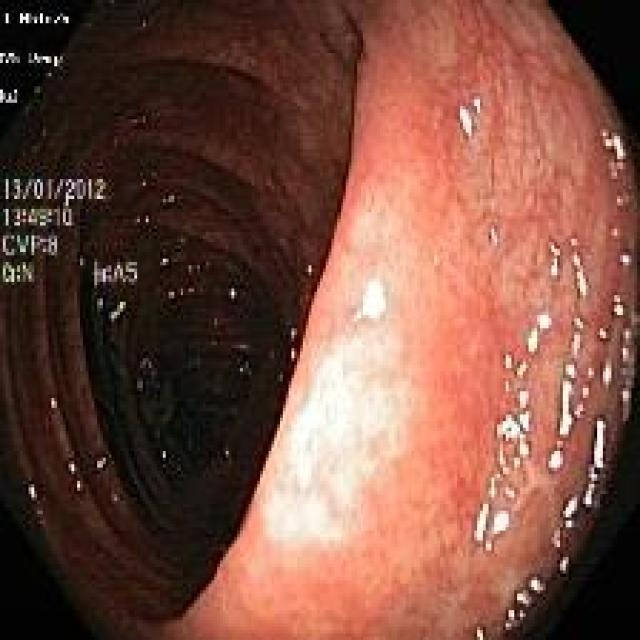ulcerative-colitis-grade-1: (170, 3, 639, 637)
